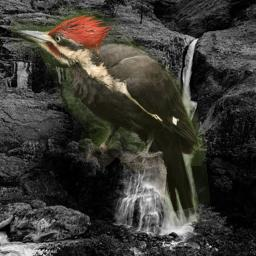Woodpecker: (11, 6, 215, 226)
